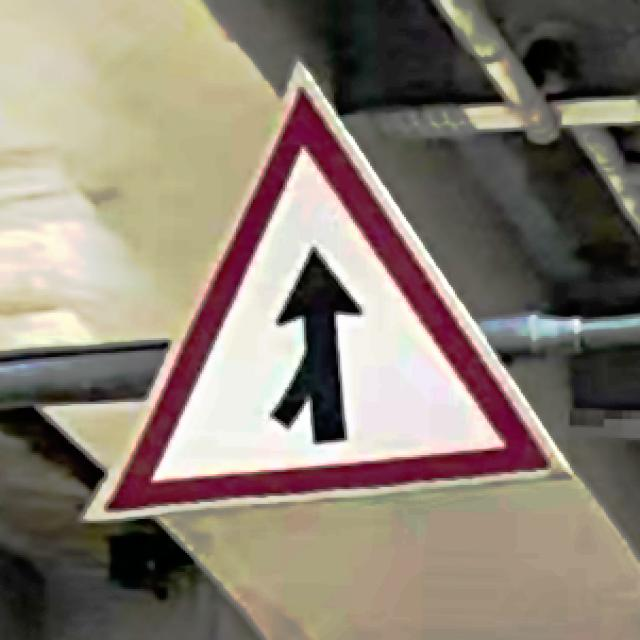leftmerge: (104, 89, 546, 515)
